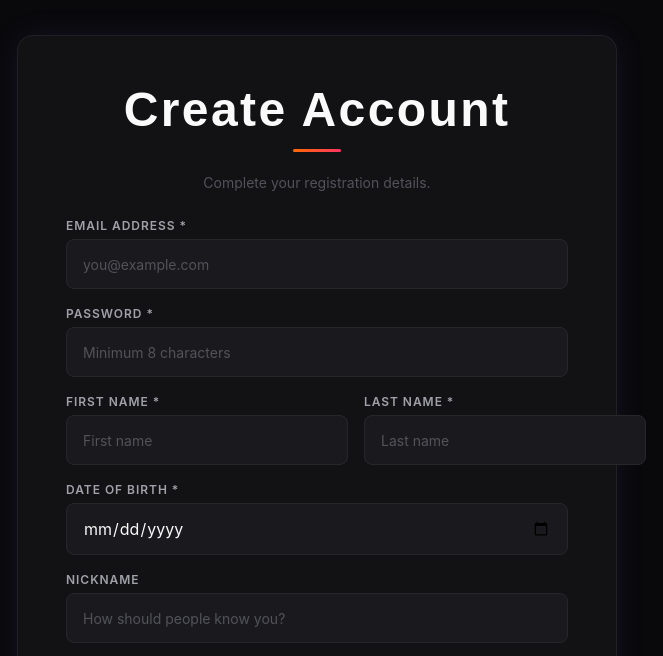
Scenario: RegisterForm › shows the API error without clearing the entered fields
Type "amina@example.com" into the field labelled "Email Address *" at coordinates (317, 264), box [66,239,568,289]
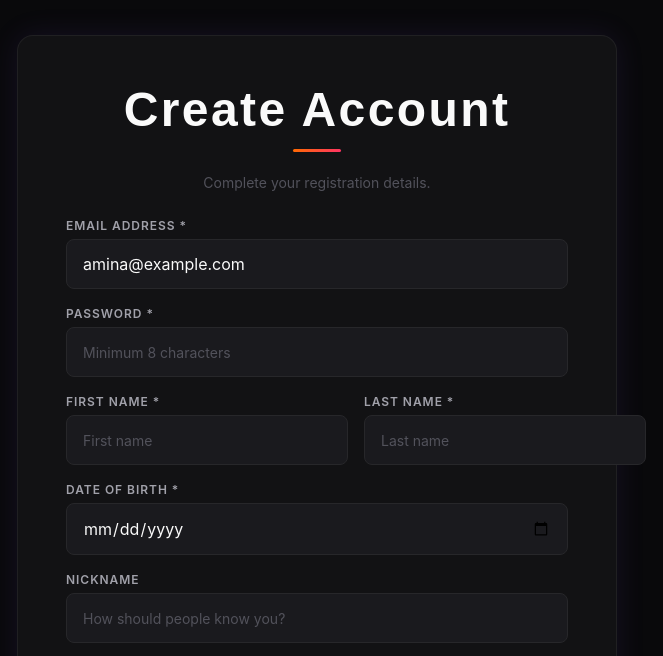
Type "secret1" into the password field labelled "Password *" at coordinates (317, 352), box [66,327,568,377]
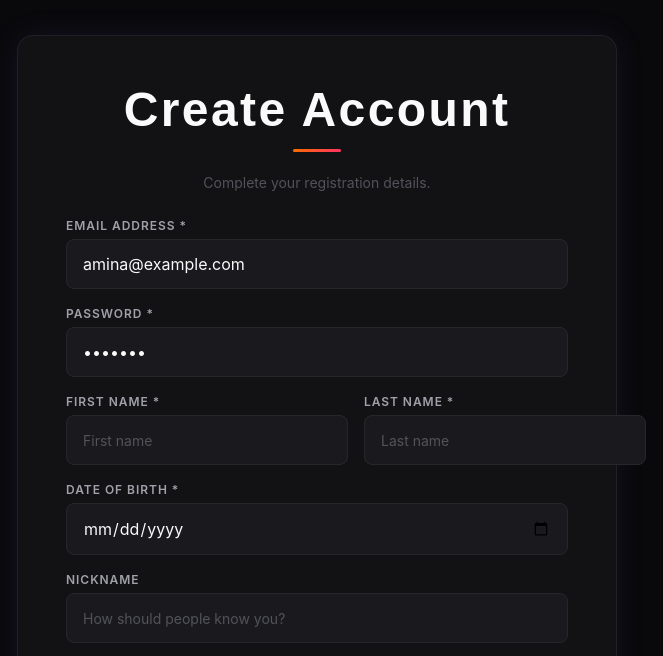
Type "Amina" into the field labelled "First Name *" at coordinates (207, 440), box [66,415,348,465]
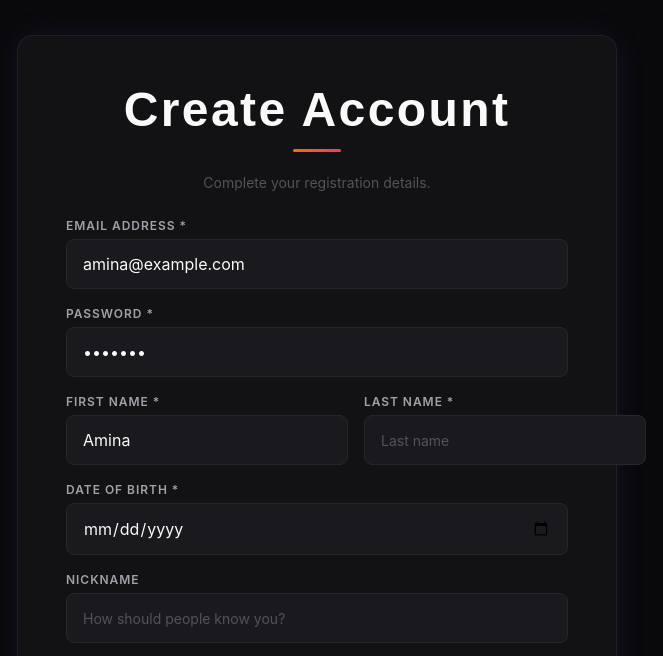
Type "Njeri" into the field labelled "Last Name *" at coordinates (505, 440), box [364,415,646,465]
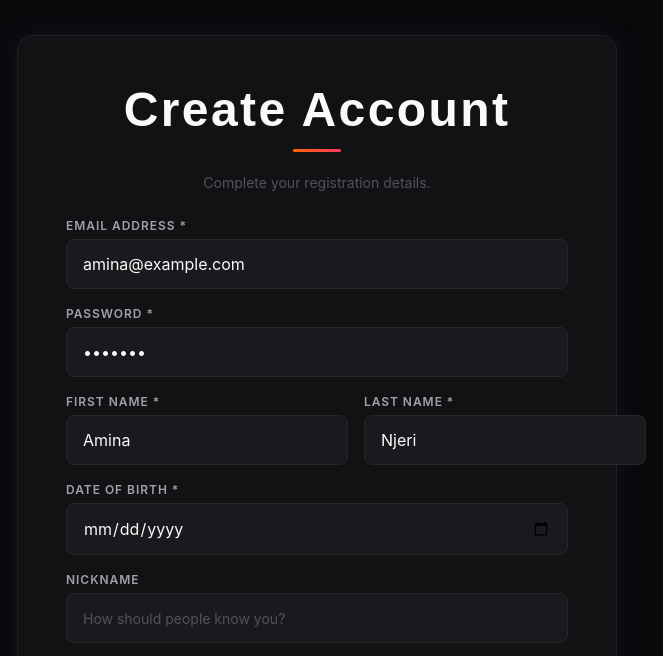
Type "1998-04-12" into the date field labelled "Date of Birth *" at coordinates (317, 529), box [66,503,568,555]
(page scrolled)
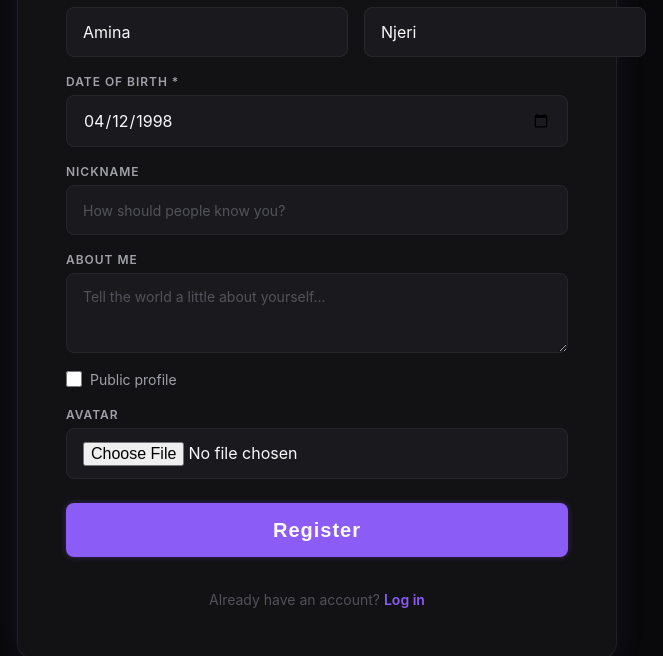
Click the button "Register" at coordinates (317, 530), box [66,503,568,557]
(page scrolled)
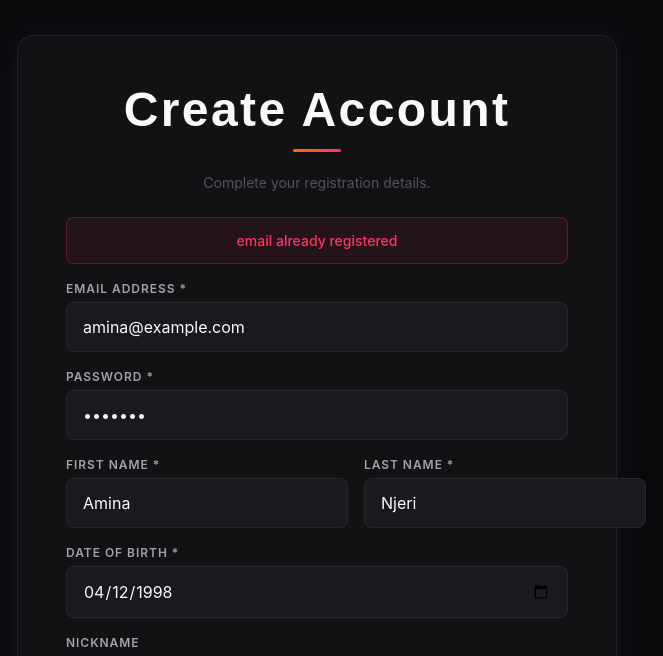
expect the text "email already registered" is shown: met, box [66,217,568,264]
